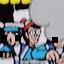waldo: (21, 18, 41, 44)
